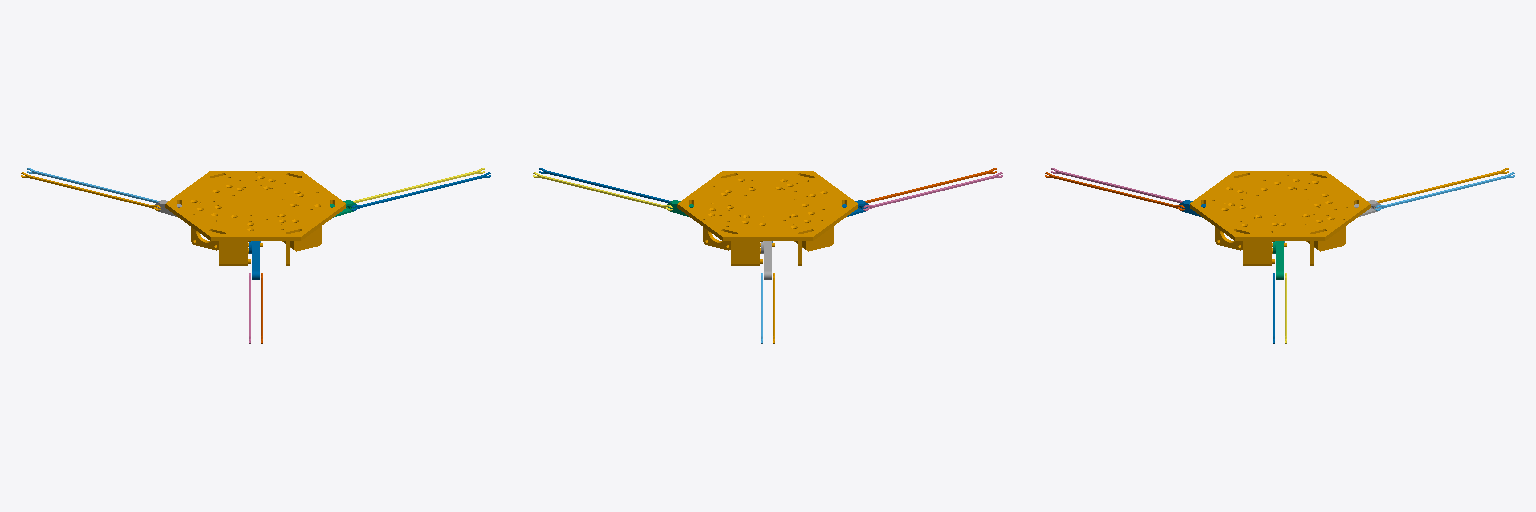
robot.urdf — DELTA_4DoF_γ:
<?xml version="1.0" ?>
  <!-- =================================================================================== -->
  <!-- |    This document was autogenerated by xacro from /app/xacro/3DoF_DELTA.xacro    | -->
  <!-- |    EDITING THIS FILE BY HAND IS NOT RECOMMENDED                                 | -->
  <!-- =================================================================================== -->
  <robot name="DELTA_4DoF_γ">
    <info>
      <workspace diameter="1.2" height="0.2" z_offset="0.672"/>
      <payload max="3.0" threshold="3.0"/>
    </info>
    <!-- Base link and end effector -->
    <!-- Robot base link without inertia, because it is not in motion -->
    <link name="base_link">
      <visual>
      <origin xyz="0 0 0.025" rpy="0 0 -0.53"/>
        <geometry>
          <mesh filename="package://descriptions/meshes/PARA_ENGINEER/Kopfplatte.stl" scale="0.001 0.001 0.001"/>
        </geometry>
      </visual>
    </link>
    <link name="tool0">
      <visual>
        <origin xyz="0 0 0.0" rpy="0 0 0.53"/>
        <geometry>
          <mesh filename="package://descriptions/meshes/PARA_ENGINEER/Werkzeugträger.stl" scale="0.001 0.001 0.001"/>
        </geometry>
      </visual>
      <!--visual>
        <origin rpy="1.570 1.570 0.0" xyz="0.0276 0.0 0.0"/>
        <geometry>
          <mesh filename="package://descriptions/meshes/PARA_ENGINEER/Unterarmverbinder.stl" scale="0.001 0.001 0.001"/>
        </geometry>
      </visual>
      <visual>
        <origin rpy="1.570 1.570 2.0943951023931953" xyz="-0.013799999999999993 0.023902301144450508 0.0"/>
        <geometry>
          <mesh filename="package://descriptions/meshes/PARA_ENGINEER/Unterarmverbinder.stl" scale="0.001 0.001 0.001"/>
        </geometry>
      </visual>
      <visual>
        <origin rpy="1.570 1.570 4.1887902047863905" xyz="-0.013800000000000012 -0.023902301144450497 0.0"/>
        <geometry>
          <mesh filename="package://descriptions/meshes/PARA_ENGINEER/Unterarmverbinder.stl" scale="0.001 0.001 0.001"/>
        </geometry>
      </visual-->
      <inertial>
        <mass value="1.073"/>
        <inertia ixx="0.0" ixy="0.0" ixz="0.0" iyy="0.0" iyz="0.0" izz="0.0"/>
      </inertial>
    </link>
    <!-- define links -->
    <link name="Chain1_link_1">
      <visual>
        <origin rpy="1.570 0 1.570"/>
        <geometry>
          <mesh filename="package://descriptions/meshes/PARA_ENGINEER/Oberarm.stl" scale="0.001 0.001 0.001"/>
        </geometry>
      </visual>
      <inertial>
        <origin xyz="0.137 0 0"/>
        <mass value="1.636"/>
        <inertia ixx="0.0" ixy="0.0" ixz="0.0" iyy="0.038940916" iyz="0.0" izz="0.0"/>
      </inertial>
    </link>
    <link name="Chain1_link_2_1">
      <visual>
        <origin rpy="0 3.141 0"/>
        <geometry>
          <mesh filename="package://descriptions/meshes/PARA_ENGINEER/Unterarm.stl" scale="0.001 0.001 0.001"/>
        </geometry>
      </visual>
      <inertial>
        <origin xyz="0.0834 0 0"/>
        <mass value="0.167"/>
        <inertia ixx="0.0" ixy="0.0" ixz="0.0" iyy="0.00038719284" iyz="0.0" izz="0.00038719284"/>
      </inertial>
    </link>
    <link name="Chain1_link_2_2">
      <visual>
        <origin rpy="0 3.141 0"/>
        <geometry>
          <mesh filename="package://descriptions/meshes/PARA_ENGINEER/Unterarm.stl" scale="0.001 0.001 0.001"/>
        </geometry>
      </visual>
      <inertial>
        <origin xyz="0.0834 0 0"/>
        <mass value="0.167"/>
        <inertia ixx="0.0" ixy="0.0" ixz="0.0" iyy="0.00038719284" iyz="0.0" izz="0.00038719284"/>
      </inertial>
    </link>
    <!-- define virtual links for universal joints -->
    <link name="Chain1_link_virtual_1">
      <!--visual>
        <origin rpy="1.570 1.570 0" xyz="0 -0.0065  0"/>
        <geometry>
          <mesh filename="package://descriptions/meshes/PARA_ENGINEER/Unterarmverbinder.stl" scale="0.001 0.001 0.001"/>
        </geometry>
      </visual-->
    </link>
    <link name="Chain1_link_virtual_2"/>
    <!-- define joints -->
    <joint name="Chain1_1" type="revolute">
      <parent link="base_link"/>
      <child link="Chain1_link_1"/>
      <origin rpy="0 0 0.0" xyz="0.0417 0.0 0"/>
      <axis xyz="0 1 0"/>
      <limit effort="230.0" lower="-1.0297442586766543" rms_effort="137.0" rms_velocity="418.87902047863906" upper="1.4311699866353502" velocity="785.3981633974483"/>
      <dynamics damping="0.0" friction="0.0"/>
    </joint>
    <joint name="Chain1_2_1" type="revolute">
      <parent link="Chain1_link_1"/>
      <child link="Chain1_link_virtual_1"/>
      <origin rpy="0 0 0" xyz="0.0758 0.0065 0"/>
      <axis xyz="0 1 0"/>
      <limit effort="99999.0" lower="0.0" upper="3.141592653589793" velocity="99999.0"/>
    </joint>
    <joint name="Chain1_3_1" type="revolute">
      <parent link="Chain1_link_virtual_1"/>
      <child link="Chain1_link_2_1"/>
      <origin rpy="0 0 0" xyz="0 0 0"/>
      <axis xyz="0 0 1"/>
      <limit effort="99999.0" lower="-1.5707963267948966" upper="1.5707963267948966" velocity="99999.0"/>
    </joint>
    <joint name="Chain1_2_2" type="revolute">
      <parent link="Chain1_link_1"/>
      <child link="Chain1_link_virtual_2"/>
      <origin rpy="0 0 0" xyz="0.0758 -0.0065 0"/>
      <axis xyz="0 1 0"/>
      <limit effort="99999.0" lower="0.0" upper="3.141592653589793" velocity="99999.0"/>
    </joint>
    <joint name="Chain1_3_2" type="revolute">
      <parent link="Chain1_link_virtual_2"/>
      <child link="Chain1_link_2_2"/>
      <origin rpy="0 0 0" xyz="0 0 0"/>
      <axis xyz="0 0 1"/>
      <limit effort="99999.0" lower="-1.5707963267948966" upper="1.5707963267948966" velocity="99999.0"/>
    </joint>
    <!-- define transmission -->
    <transmission name="Chain1_transmission">
      <type>transmission_interface/SimpleTransmission</type>
      <joint name="Chain1_1"/>
      <actuator name="Chain1_actuator">
        <mechanicalReduction>1</mechanicalReduction>
        <efficiency>1</efficiency>
        <inertia>0.0</inertia>
      </actuator>
    </transmission>
    <!-- define constraints -->
    <constraint name="Chain1_constraint_1" type="spherical_joint">
      <parent link="Chain1_link_2_1"/>
      <parent_origin xyz="0.1668 0 0"/>
      <parent_axis xyz="0 0 1"/>
      <child link="tool0"/>
      <child_origin rpy="0 0 0.0" xyz="0.0276 0.0065 0.0"/>
      <child_axis xyz="0 1 0"/>
    </constraint>
    <constraint name="Chain1_constraint_2" type="spherical_joint">
      <parent link="Chain1_link_2_2"/>
      <parent_origin xyz="0.1668 0 0"/>
      <parent_axis xyz="0 0 1"/>
      <child link="tool0"/>
      <child_origin rpy="0 0 0.0" xyz="0.0276 -0.0065 0.0"/>
      <child_axis xyz="0 1 0"/>
    </constraint>
    <link_limit lower="0.0" upper="3.141592653589793">
      <parent link="tool0"/>
      <child link="Chain1_link_2_1"/>
      <child_axis xyz="0 0 -1"/>
      <parent_axis xyz="0 0 1"/>
      <projection axis="0.0 1.0 0" link="tool0" type="plane"/>
    </link_limit>
    <link_limit lower="0.0" upper="3.141592653589793">
      <parent link="tool0"/>
      <child link="Chain1_link_2_2"/>
      <child_axis xyz="0 0 -1"/>
      <parent_axis xyz="0 0 1"/>
      <projection axis="0.0 1.0 0" link="tool0" type="plane"/>
    </link_limit>
    <!-- define links -->
    <link name="Chain2_link_1">
      <visual>
        <origin rpy="1.570 0 1.570"/>
        <geometry>
          <mesh filename="package://descriptions/meshes/PARA_ENGINEER/Oberarm.stl" scale="0.001 0.001 0.001"/>
        </geometry>
      </visual>
      <inertial>
        <origin xyz="0.137 0 0"/>
        <mass value="1.636"/>
        <inertia ixx="0.0" ixy="0.0" ixz="0.0" iyy="0.038940916" iyz="0.0" izz="0.0"/>
      </inertial>
    </link>
    <link name="Chain2_link_2_1">
      <visual>
        <origin rpy="0 3.141 0"/>
        <geometry>
          <mesh filename="package://descriptions/meshes/PARA_ENGINEER/Unterarm.stl" scale="0.001 0.001 0.001"/>
        </geometry>
      </visual>
      <inertial>
        <origin xyz="0.0834 0 0"/>
        <mass value="0.167"/>
        <inertia ixx="0.0" ixy="0.0" ixz="0.0" iyy="0.00038719284" iyz="0.0" izz="0.00038719284"/>
      </inertial>
    </link>
    <link name="Chain2_link_2_2">
      <visual>
        <origin rpy="0 3.141 0"/>
        <geometry>
          <mesh filename="package://descriptions/meshes/PARA_ENGINEER/Unterarm.stl" scale="0.001 0.001 0.001"/>
        </geometry>
      </visual>
      <inertial>
        <origin xyz="0.0834 0 0"/>
        <mass value="0.167"/>
        <inertia ixx="0.0" ixy="0.0" ixz="0.0" iyy="0.00038719284" iyz="0.0" izz="0.00038719284"/>
      </inertial>
    </link>
    <!-- define virtual links for universal joints -->
    <link name="Chain2_link_virtual_1">
      <!--visual>
        <origin rpy="1.570 1.570 0" xyz="0 -0.0065  0"/>
        <geometry>
          <mesh filename="package://descriptions/meshes/PARA_ENGINEER/Unterarmverbinder.stl" scale="0.001 0.001 0.001"/>
        </geometry>
      </visual-->
    </link>
    <link name="Chain2_link_virtual_2"/>
    <!-- define joints -->
    <joint name="Chain2_1" type="revolute">
      <parent link="base_link"/>
      <child link="Chain2_link_1"/>
      <origin rpy="0 0 2.0943951023931953" xyz="-0.02084999999999999 0.03611325933781109 0"/>
      <axis xyz="0 1 0"/>
      <limit effort="230.0" lower="-1.0297442586766543" rms_effort="137.0" rms_velocity="418.87902047863906" upper="1.4311699866353502" velocity="785.3981633974483"/>
      <dynamics damping="0.0" friction="0.0"/>
    </joint>
    <joint name="Chain2_2_1" type="revolute">
      <parent link="Chain2_link_1"/>
      <child link="Chain2_link_virtual_1"/>
      <origin rpy="0 0 0" xyz="0.0758 0.0065 0"/>
      <axis xyz="0 1 0"/>
      <limit effort="99999.0" lower="0.0" upper="3.141592653589793" velocity="99999.0"/>
    </joint>
    <joint name="Chain2_3_1" type="revolute">
      <parent link="Chain2_link_virtual_1"/>
      <child link="Chain2_link_2_1"/>
      <origin rpy="0 0 0" xyz="0 0 0"/>
      <axis xyz="0 0 1"/>
      <limit effort="99999.0" lower="-1.5707963267948966" upper="1.5707963267948966" velocity="99999.0"/>
    </joint>
    <joint name="Chain2_2_2" type="revolute">
      <parent link="Chain2_link_1"/>
      <child link="Chain2_link_virtual_2"/>
      <origin rpy="0 0 0" xyz="0.0758 -0.0065 0"/>
      <axis xyz="0 1 0"/>
      <limit effort="99999.0" lower="0.0" upper="3.141592653589793" velocity="99999.0"/>
    </joint>
    <joint name="Chain2_3_2" type="revolute">
      <parent link="Chain2_link_virtual_2"/>
      <child link="Chain2_link_2_2"/>
      <origin rpy="0 0 0" xyz="0 0 0"/>
      <axis xyz="0 0 1"/>
      <limit effort="99999.0" lower="-1.5707963267948966" upper="1.5707963267948966" velocity="99999.0"/>
    </joint>
    <!-- define transmission -->
    <transmission name="Chain2_transmission">
      <type>transmission_interface/SimpleTransmission</type>
      <joint name="Chain2_1"/>
      <actuator name="Chain2_actuator">
        <mechanicalReduction>1</mechanicalReduction>
        <efficiency>1</efficiency>
        <inertia>0.0</inertia>
      </actuator>
    </transmission>
    <!-- define constraints -->
    <constraint name="Chain2_constraint_1" type="spherical_joint">
      <parent link="Chain2_link_2_1"/>
      <parent_origin xyz="0.1668 0 0"/>
      <parent_axis xyz="0 0 1"/>
      <child link="tool0"/>
      <child_origin rpy="0 0 2.0943951023931953" xyz="-0.019429165124598847 0.02065230114445051 0.0"/>
      <child_axis xyz="0 1 0"/>
    </constraint>
    <constraint name="Chain2_constraint_2" type="spherical_joint">
      <parent link="Chain2_link_2_2"/>
      <parent_origin xyz="0.1668 0 0"/>
      <parent_axis xyz="0 0 1"/>
      <child link="tool0"/>
      <child_origin rpy="0 0 2.0943951023931953" xyz="-0.00817083487540114 0.027152301144450507 0.0"/>
      <child_axis xyz="0 1 0"/>
    </constraint>
    <link_limit lower="0.0" upper="3.141592653589793">
      <parent link="tool0"/>
      <child link="Chain2_link_2_1"/>
      <child_axis xyz="0 0 -1"/>
      <parent_axis xyz="0 0 1"/>
      <projection axis="0.8660254037844387 -0.4999999999999998 0" link="tool0" type="plane"/>
    </link_limit>
    <link_limit lower="0.0" upper="3.141592653589793">
      <parent link="tool0"/>
      <child link="Chain2_link_2_2"/>
      <child_axis xyz="0 0 -1"/>
      <parent_axis xyz="0 0 1"/>
      <projection axis="0.8660254037844387 -0.4999999999999998 0" link="tool0" type="plane"/>
    </link_limit>
    <!-- define links -->
    <link name="Chain3_link_1">
      <visual>
        <origin rpy="1.570 0 1.570"/>
        <geometry>
          <mesh filename="package://descriptions/meshes/PARA_ENGINEER/Oberarm.stl" scale="0.001 0.001 0.001"/>
        </geometry>
      </visual>
      <inertial>
        <origin xyz="0.137 0 0"/>
        <mass value="1.636"/>
        <inertia ixx="0.0" ixy="0.0" ixz="0.0" iyy="0.038940916" iyz="0.0" izz="0.0"/>
      </inertial>
    </link>
    <link name="Chain3_link_2_1">
      <visual>
        <origin rpy="0 3.141 0"/>
        <geometry>
          <mesh filename="package://descriptions/meshes/PARA_ENGINEER/Unterarm.stl" scale="0.001 0.001 0.001"/>
        </geometry>
      </visual>
      <inertial>
        <origin xyz="0.0834 0 0"/>
        <mass value="0.167"/>
        <inertia ixx="0.0" ixy="0.0" ixz="0.0" iyy="0.00038719284" iyz="0.0" izz="0.00038719284"/>
      </inertial>
    </link>
    <link name="Chain3_link_2_2">
      <visual>
        <origin rpy="0 3.141 0"/>
        <geometry>
          <mesh filename="package://descriptions/meshes/PARA_ENGINEER/Unterarm.stl" scale="0.001 0.001 0.001"/>
        </geometry>
      </visual>
      <inertial>
        <origin xyz="0.0834 0 0"/>
        <mass value="0.167"/>
        <inertia ixx="0.0" ixy="0.0" ixz="0.0" iyy="0.00038719284" iyz="0.0" izz="0.00038719284"/>
      </inertial>
    </link>
    <!-- define virtual links for universal joints -->
    <link name="Chain3_link_virtual_1">
      <!--visual>
        <origin rpy="1.570 1.570 0" xyz="0 -0.0065  0"/>
        <geometry>
          <mesh filename="package://descriptions/meshes/PARA_ENGINEER/Unterarmverbinder.stl" scale="0.001 0.001 0.001"/>
        </geometry>
      </visual-->
    </link>
    <link name="Chain3_link_virtual_2"/>
    <!-- define joints -->
    <joint name="Chain3_1" type="revolute">
      <parent link="base_link"/>
      <child link="Chain3_link_1"/>
      <origin rpy="0 0 4.1887902047863905" xyz="-0.020850000000000018 -0.03611325933781108 0"/>
      <axis xyz="0 1 0"/>
      <limit effort="230.0" lower="-1.0297442586766543" rms_effort="137.0" rms_velocity="418.87902047863906" upper="1.4311699866353502" velocity="785.3981633974483"/>
      <dynamics damping="0.0" friction="0.0"/>
    </joint>
    <joint name="Chain3_2_1" type="revolute">
      <parent link="Chain3_link_1"/>
      <child link="Chain3_link_virtual_1"/>
      <origin rpy="0 0 0" xyz="0.0758 0.0065 0"/>
      <axis xyz="0 1 0"/>
      <limit effort="99999.0" lower="0.0" upper="3.141592653589793" velocity="99999.0"/>
    </joint>
    <joint name="Chain3_3_1" type="revolute">
      <parent link="Chain3_link_virtual_1"/>
      <child link="Chain3_link_2_1"/>
      <origin rpy="0 0 0" xyz="0 0 0"/>
      <axis xyz="0 0 1"/>
      <limit effort="99999.0" lower="-1.5707963267948966" upper="1.5707963267948966" velocity="99999.0"/>
    </joint>
    <joint name="Chain3_2_2" type="revolute">
      <parent link="Chain3_link_1"/>
      <child link="Chain3_link_virtual_2"/>
      <origin rpy="0 0 0" xyz="0.0758 -0.0065 0"/>
      <axis xyz="0 1 0"/>
      <limit effort="99999.0" lower="0.0" upper="3.141592653589793" velocity="99999.0"/>
    </joint>
    <joint name="Chain3_3_2" type="revolute">
      <parent link="Chain3_link_virtual_2"/>
      <child link="Chain3_link_2_2"/>
      <origin rpy="0 0 0" xyz="0 0 0"/>
      <axis xyz="0 0 1"/>
      <limit effort="99999.0" lower="-1.5707963267948966" upper="1.5707963267948966" velocity="99999.0"/>
    </joint>
    <!-- define transmission -->
    <transmission name="Chain3_transmission">
      <type>transmission_interface/SimpleTransmission</type>
      <joint name="Chain3_1"/>
      <actuator name="Chain3_actuator">
        <mechanicalReduction>1</mechanicalReduction>
        <efficiency>1</efficiency>
        <inertia>0.0</inertia>
      </actuator>
    </transmission>
    <!-- define constraints -->
    <constraint name="Chain3_constraint_1" type="spherical_joint">
      <parent link="Chain3_link_2_1"/>
      <parent_origin xyz="0.1668 0 0"/>
      <parent_axis xyz="0 0 1"/>
      <child link="tool0"/>
      <child_origin rpy="0 0 4.1887902047863905" xyz="-0.008170834875401172 -0.027152301144450497 0.0"/>
      <child_axis xyz="0 1 0"/>
    </constraint>
    <constraint name="Chain3_constraint_2" type="spherical_joint">
      <parent link="Chain3_link_2_2"/>
      <parent_origin xyz="0.1668 0 0"/>
      <parent_axis xyz="0 0 1"/>
      <child link="tool0"/>
      <child_origin rpy="0 0 4.1887902047863905" xyz="-0.01942916512459886 -0.020652301144450495 0.0"/>
      <child_axis xyz="0 1 0"/>
    </constraint>
    <link_limit lower="0.0" upper="3.141592653589793">
      <parent link="tool0"/>
      <child link="Chain3_link_2_1"/>
      <child_axis xyz="0 0 -1"/>
      <parent_axis xyz="0 0 1"/>
      <projection axis="-0.8660254037844384 -0.5000000000000004 0" link="tool0" type="plane"/>
    </link_limit>
    <link_limit lower="0.0" upper="3.141592653589793">
      <parent link="tool0"/>
      <child link="Chain3_link_2_2"/>
      <child_axis xyz="0 0 -1"/>
      <parent_axis xyz="0 0 1"/>
      <projection axis="-0.8660254037844384 -0.5000000000000004 0" link="tool0" type="plane"/>
    </link_limit>
    <!-- tool joint-->
    <link name="tool0_virtual">
    </link>
    <link name="tool1_virtual">
    </link>
    <link name="tool2_virtual">
    </link>
    <link name="tool3_virtual">
    </link>
    <link name="tool4_virtual">
    </link>
    <joint name="tool_joint_0" type="prismatic">
      <parent link="base_link"/>
      <child link="tool0_virtual"/>
      <axis xyz="1 0 0"/>
      <origin xyz="0 0 0"/>
      <limit effort="99999.0" lower="-9999.0" upper="9999.0" velocity="9999.0"/>
    </joint>
    <joint name="tool_joint_1" type="prismatic">
      <parent link="tool0_virtual"/>
      <child link="tool1_virtual"/>
      <axis xyz="0 1 0"/>
      <origin xyz="0 0 0"/>
      <limit effort="99999.0" lower="-9999.0" upper="9999.0" velocity="9999.0"/>
    </joint>
    <joint name="tool_joint_2" type="prismatic">
      <parent link="tool1_virtual"/>
      <child link="tool2_virtual"/>
      <axis xyz="0 0 1"/>
      <limit effort="99999.0" lower="-9999.0" upper="9999.0" velocity="9999.0"/>
    </joint>
    <joint name="tool_joint_3" type="continuous">
      <parent link="tool2_virtual"/>
      <child link="tool3_virtual"/>
      <axis xyz="1 0 0"/>
      <origin xyz="0 0 0"/>
      <limit effort="10.0" velocity="2.0"/>
    </joint>
    <joint name="tool_joint_4" type="continuous">
      <parent link="tool3_virtual"/>
      <child link="tool4_virtual"/>
      <axis xyz="0 1 0"/>
      <origin xyz="0 0 0"/>
      <limit effort="10.0" velocity="2.0"/>
    </joint>
    <joint name="tool_joint_5" type="continuous">
      <parent link="tool4_virtual"/>
      <child link="tool0"/>
      <axis xyz="0 0 1"/>
      <origin xyz="0 0 0"/>
      <limit effort="10.0" velocity="2.0"/>
    </joint>
  </robot>

--- Render facts (derived) ---
The picture shows the robot from 3 angles, left to right: view 1: azimuth 30°, elevation 25°; view 2: azimuth 150°, elevation 25°; view 3: azimuth 270°, elevation 25°; orthographic projection.
Robot: DELTA_4DoF_γ — 22 links, 21 joints (15 revolute, 3 continuous, 3 prismatic); root link base_link; default pose: every joint at zero.
Links seen in each view (by area): view 1: base_link; view 2: base_link; view 3: base_link.
Link boxes in pixels (x1,y1,x2,y2): base_link: [165, 171, 345, 265]; base_link: [677, 171, 857, 265]; base_link: [1190, 171, 1370, 265].
Size in the robot's own frame: 0.4376 by 0.5047 by 0.0471 metres.
Meshes: 4 distinct files referenced, 11 mesh visuals loaded (4 binary STL).
